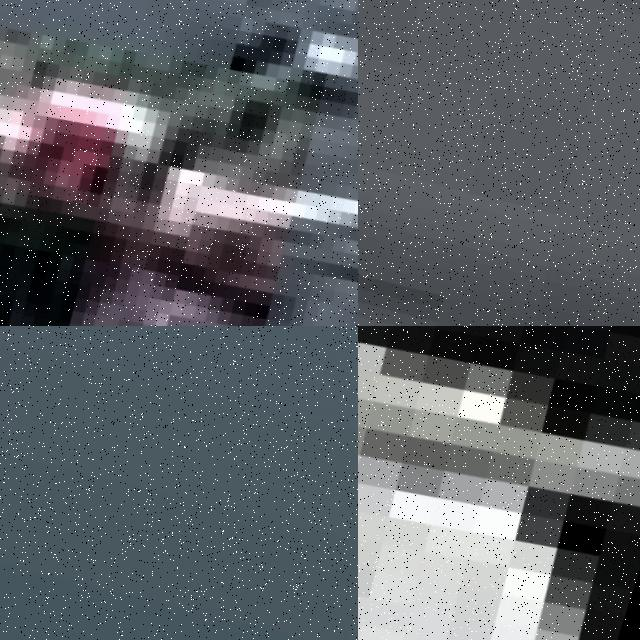0: (0, 0, 358, 326)
drone: (358, 326, 640, 640)
